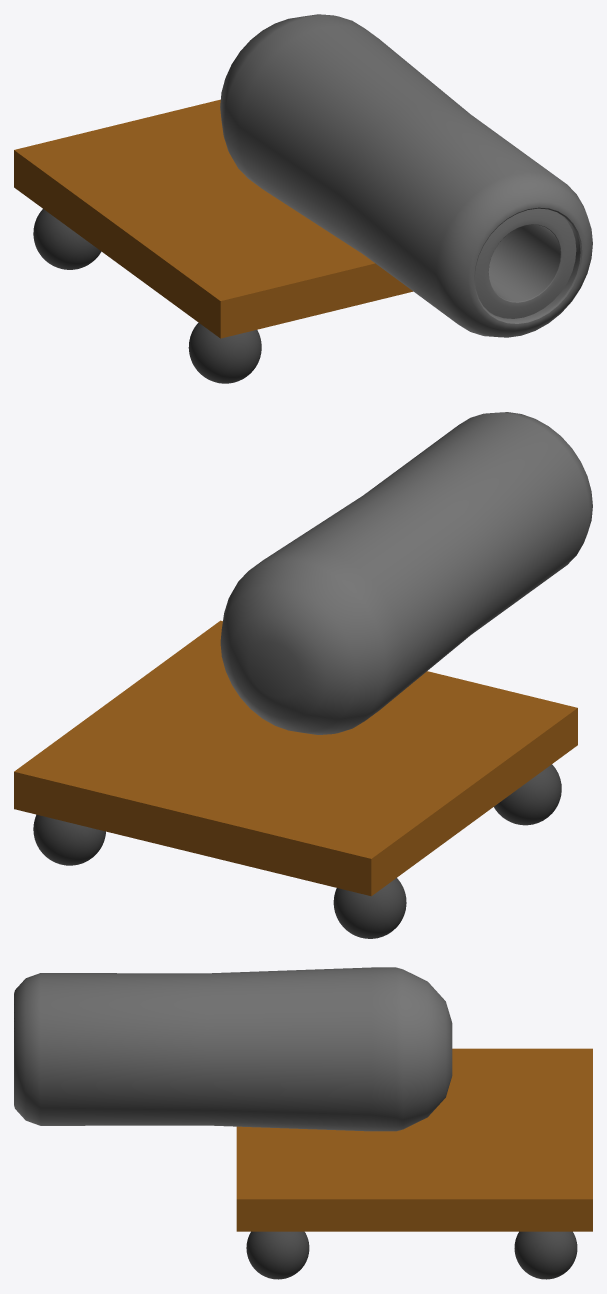
The model's file is Gun.fbx.
The picture shows the model from 3 angles, top to bottom: view 1: azimuth 30°, elevation 25°; view 2: azimuth 150°, elevation 25°; view 3: azimuth 270°, elevation 25°; orthographic projection. The views are drawn at different scales.
Visible parts, largest first — view 1: Gun, Plane; view 2: Plane, Gun; view 3: Gun, Plane.
Part boxes in pixels (x1=…): Gun: x1=220, y1=14, x2=592, y2=337; Plane: x1=14, y1=99, x2=412, y2=383; Plane: x1=14, y1=620, x2=577, y2=938; Gun: x1=220, y1=412, x2=592, y2=734; Gun: x1=14, y1=967, x2=452, y2=1131; Plane: x1=236, y1=1048, x2=592, y2=1279.
Bounding box in the file's own units: 162 × 102 × 73.74.
